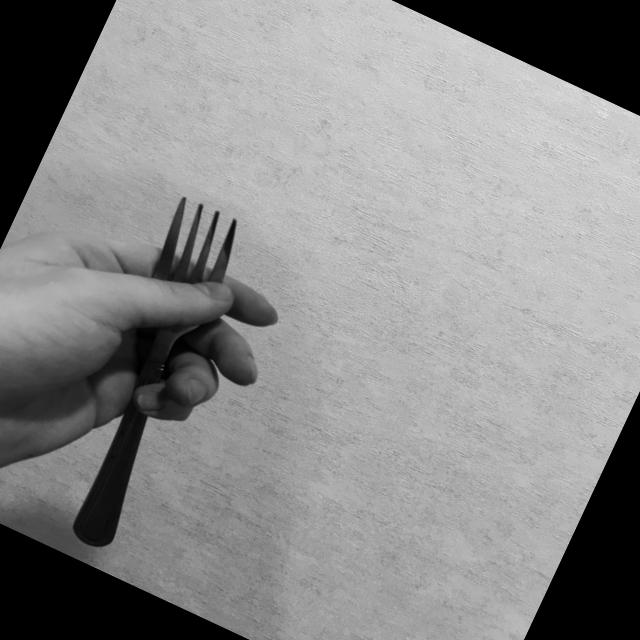fork: (26, 190, 261, 558)
